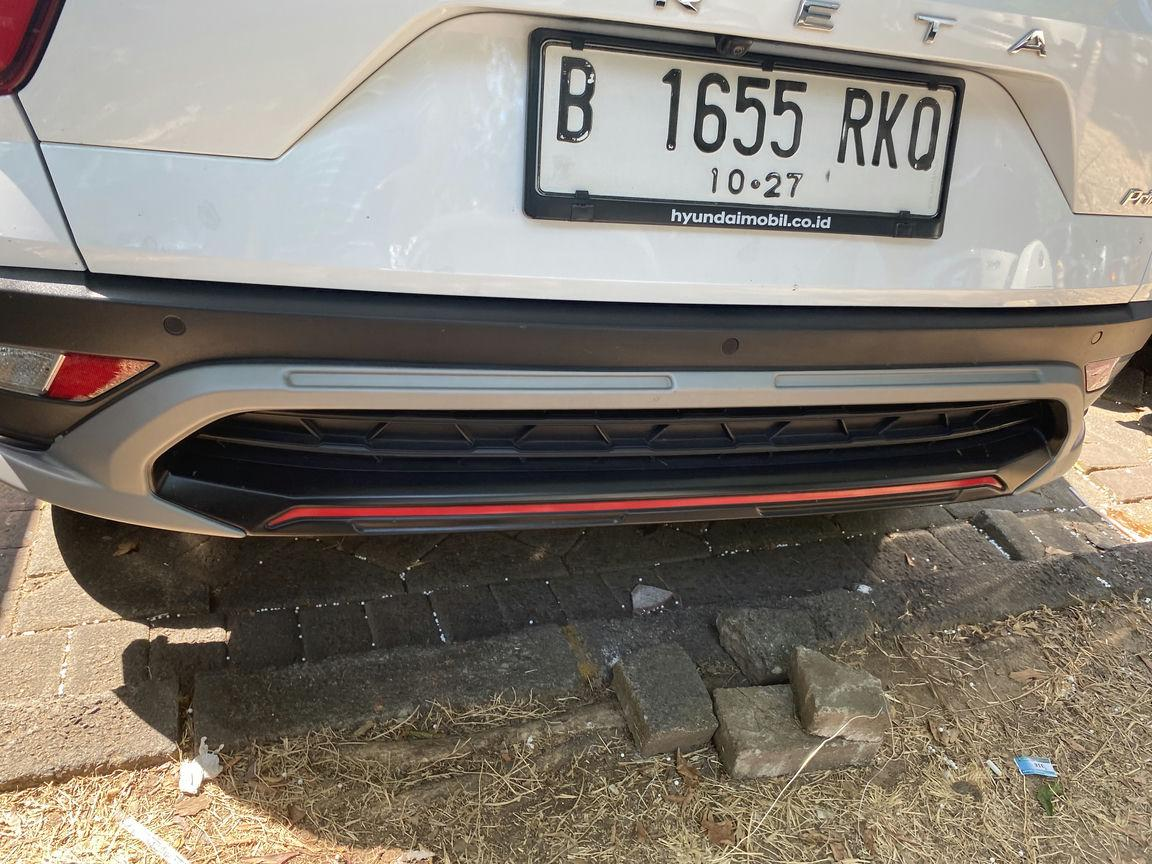plat: (533, 36, 961, 224)
